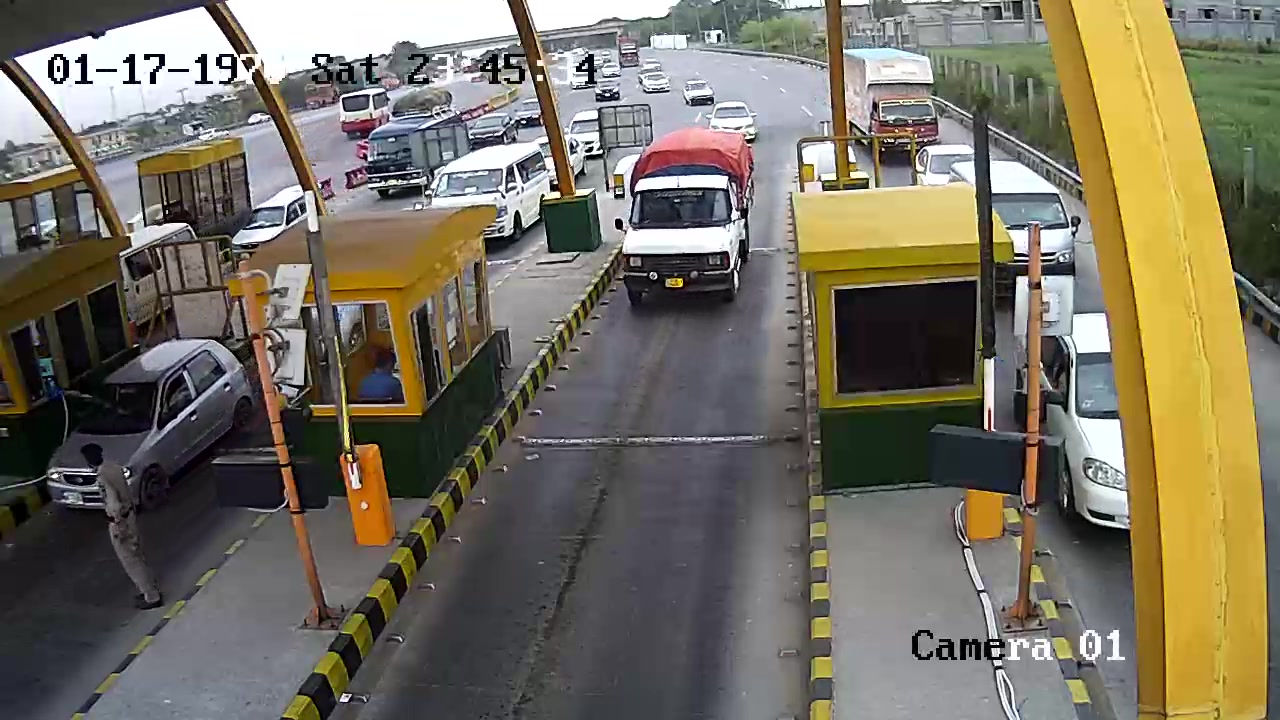F3: (614, 123, 764, 326)
